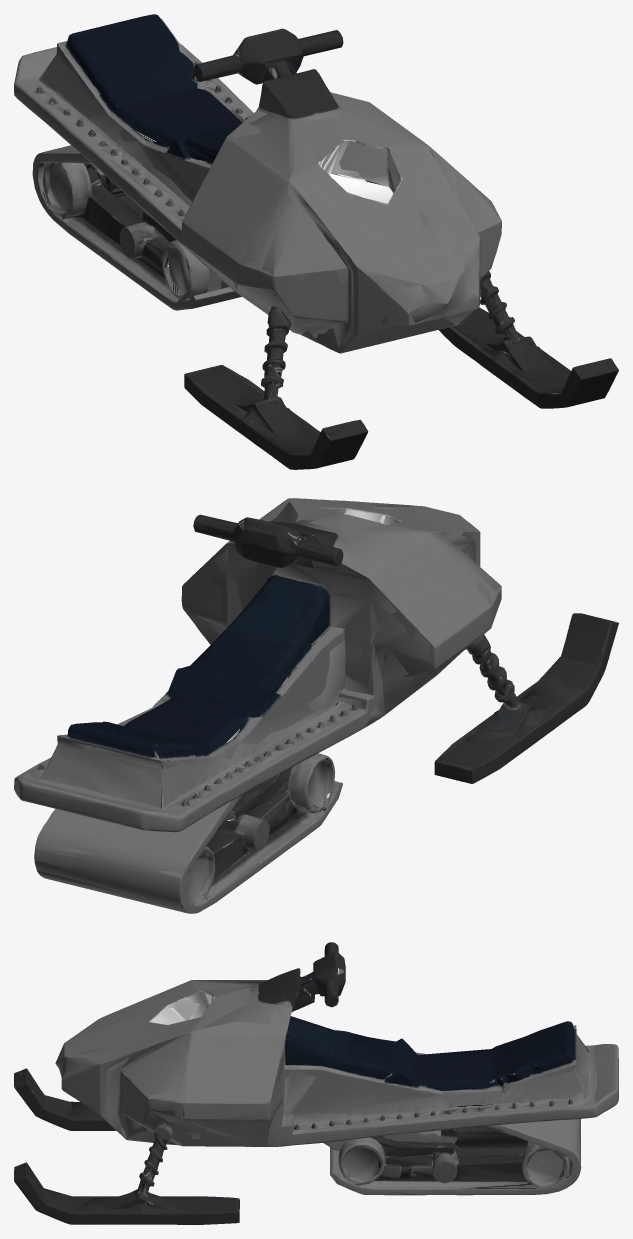
File: snowmobile.glb
3 renders of one model, top to bottom at view 1: azimuth 30°, elevation 25°; view 2: azimuth 150°, elevation 25°; view 3: azimuth 270°, elevation 25°, orthographic. The views are drawn at different scales.
Parts seen in each view (by area): view 1: model, mesh_lod; view 2: model, mesh_lod; view 3: model, mesh_lod.
Part boxes in pixels (left/top/right/bottom): model: left=14, top=14, right=618, bottom=469; mesh_lod: left=15, top=23, right=617, bottom=467; model: left=14, top=498, right=618, bottom=913; mesh_lod: left=16, top=498, right=616, bottom=912; model: left=14, top=942, right=618, bottom=1224; mesh_lod: left=14, top=946, right=617, bottom=1224.
Bounding box in the file's own units: 1.31 × 1.15 × 3.
1 material, 1 textured.
